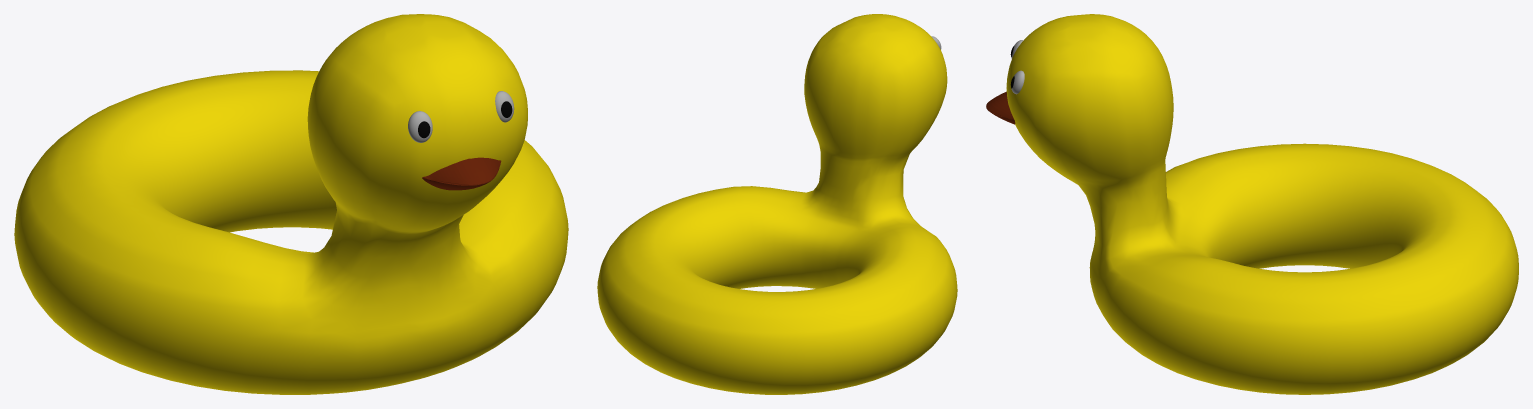
File: duck.fbx
3 renders of one model, left to right at view 1: azimuth 30°, elevation 25°; view 2: azimuth 150°, elevation 25°; view 3: azimuth 270°, elevation 25°, orthographic. The views are drawn at different scales.
Parts seen in each view (by area): view 1: pCube2, group1, object_8, object_9; view 2: pCube2; view 3: pCube2, group1.
Part boxes in pixels (bbox=[...]): pCube2: bbox=[14, 14, 568, 394]; group1: bbox=[422, 157, 501, 190]; object_8: bbox=[408, 111, 432, 142]; object_9: bbox=[495, 91, 514, 122]; pCube2: bbox=[597, 14, 957, 394]; pCube2: bbox=[1006, 14, 1518, 394]; group1: bbox=[986, 91, 1015, 124].
Size of the model in its own units: 5.86 by 4.46 by 7.28.
